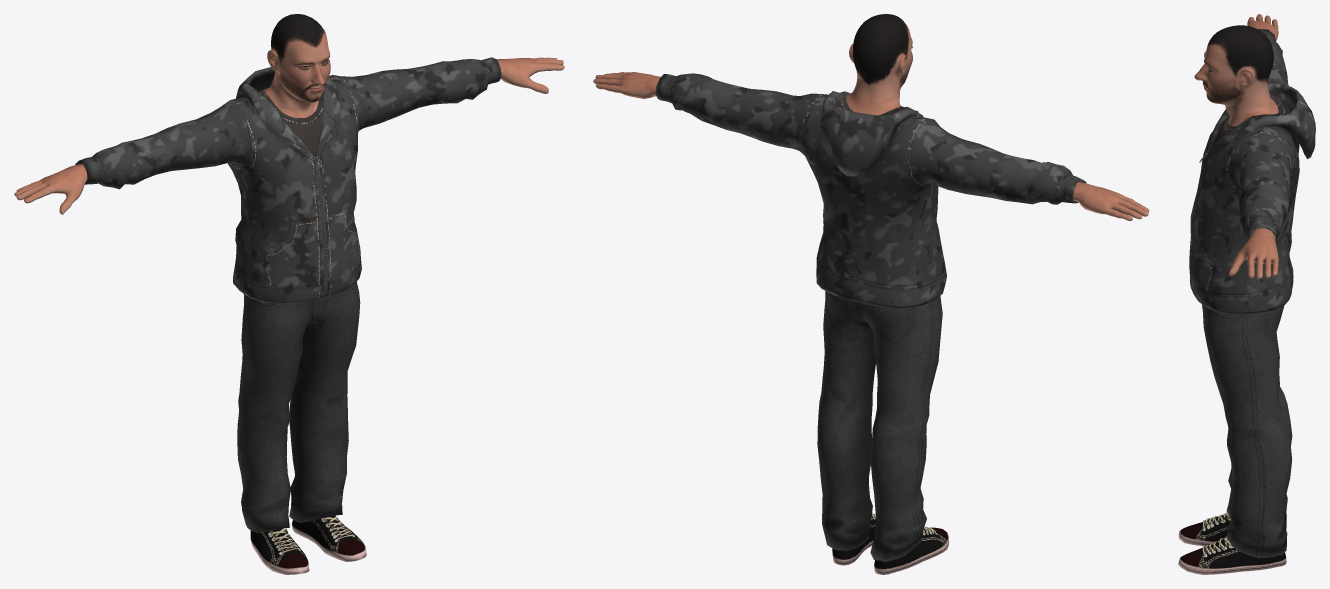
Rendered from mmd.obj.
3 renders of one model, left to right at view 1: azimuth 30°, elevation 25°; view 2: azimuth 150°, elevation 25°; view 3: azimuth 270°, elevation 25°, orthographic.
Visible parts, largest first — view 1: Tops, Bottoms, Body, Shoes; view 2: Tops, Bottoms, Body, Shoes; view 3: Tops, Bottoms, Body, Shoes.
Boxes of the visible parts, x1=… form: Tops: x1=75, y1=57, x2=501, y2=303; Bottoms: x1=237, y1=282, x2=360, y2=532; Body: x1=14, y1=14, x2=564, y2=214; Shoes: x1=250, y1=515, x2=366, y2=574; Tops: x1=655, y1=73, x2=1086, y2=308; Bottoms: x1=817, y1=291, x2=942, y2=561; Body: x1=593, y1=14, x2=1149, y2=220; Shoes: x1=832, y1=513, x2=949, y2=574; Tops: x1=1189, y1=29, x2=1315, y2=314; Bottoms: x1=1202, y1=304, x2=1292, y2=558; Body: x1=1194, y1=14, x2=1278, y2=278; Shoes: x1=1178, y1=512, x2=1286, y2=574.
Size of the model in its own units: 194 by 180 by 42.7.
Materials: 4 (4 with a texture image).
